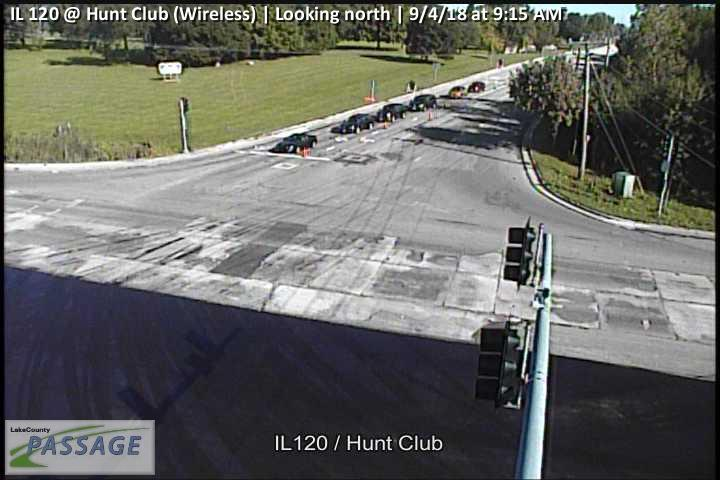SUV: (339, 113, 373, 134), (375, 103, 408, 122), (408, 93, 436, 112), (468, 80, 486, 93), (448, 86, 466, 98)
Sedan: (274, 133, 317, 152)
